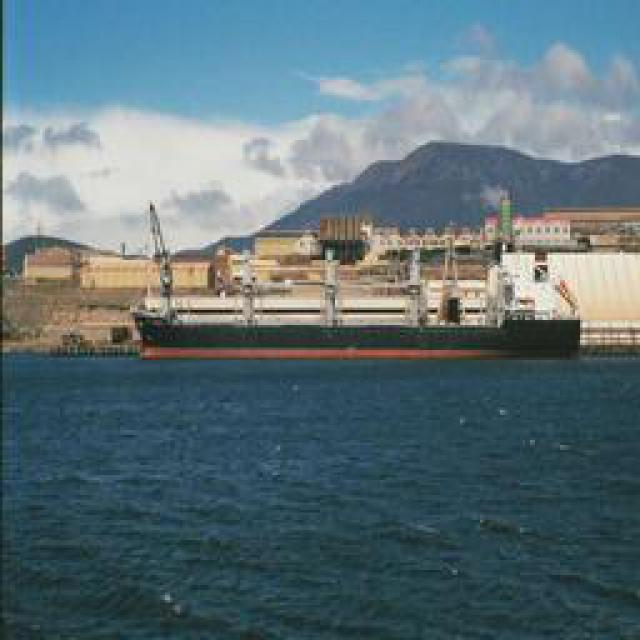Ship: (146, 260, 581, 365)
